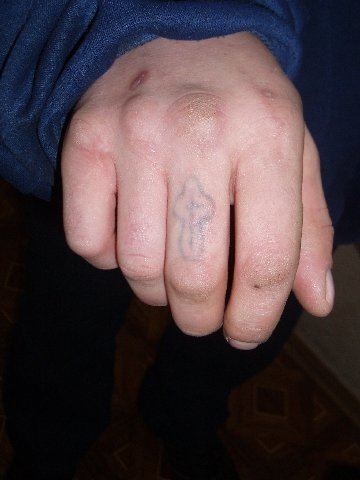tatu9_krest: (170, 175, 216, 259)
